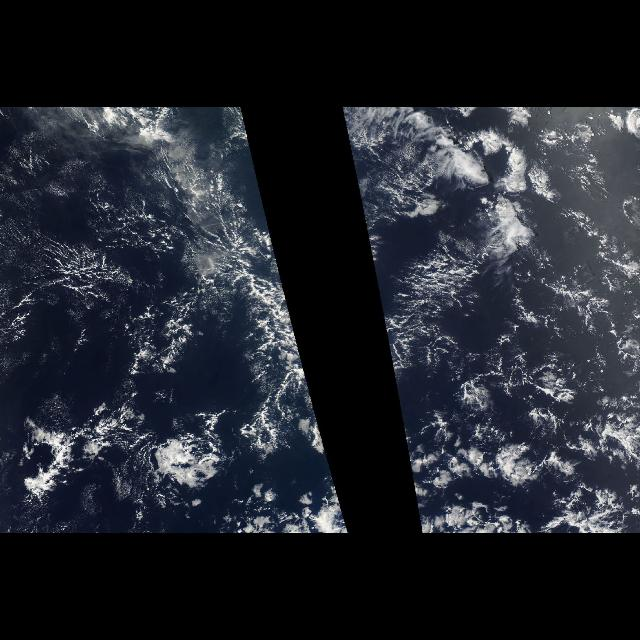Flower: (8, 367, 350, 533), (391, 367, 639, 533)
